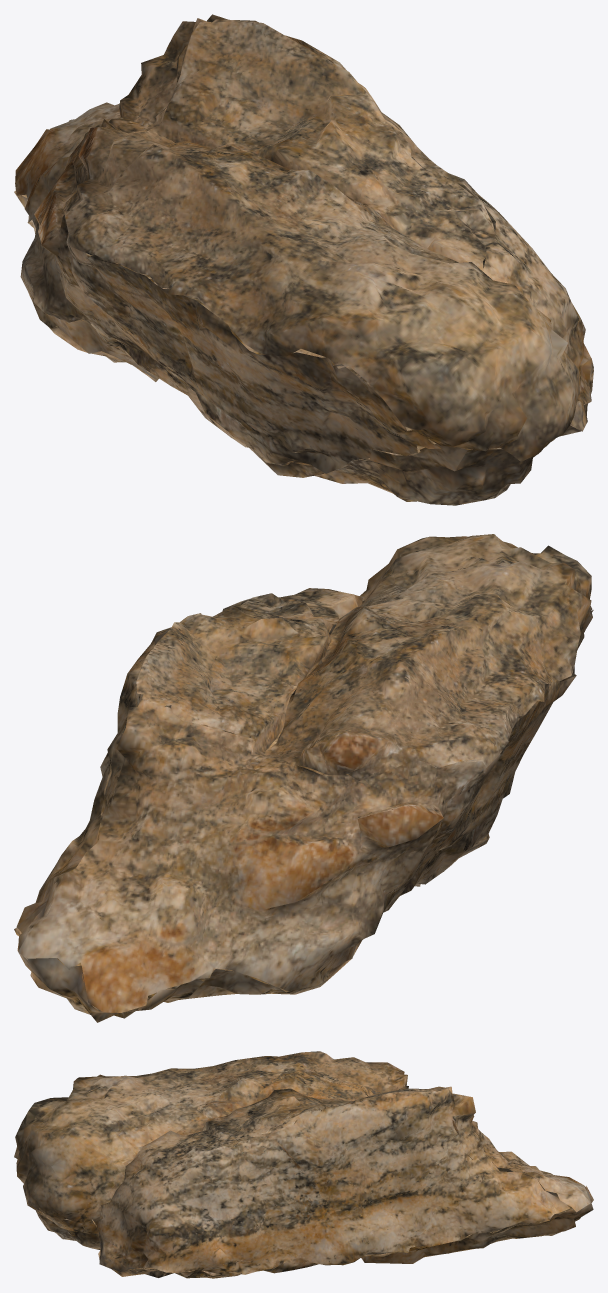
Rendered from SM_CinderScenery_Rock_D.fbx.
The picture shows the model from 3 angles, top to bottom: view 1: azimuth 30°, elevation 25°; view 2: azimuth 150°, elevation 25°; view 3: azimuth 270°, elevation 25°; orthographic projection. The views are drawn at different scales.
Parts seen in each view (by area): view 1: SM_CinderScenery_Rock_D; view 2: SM_CinderScenery_Rock_D; view 3: SM_CinderScenery_Rock_D.
Part boxes in pixels (x1=…): SM_CinderScenery_Rock_D: x1=14, y1=14, x2=593, y2=505; SM_CinderScenery_Rock_D: x1=14, y1=534, x2=593, y2=1022; SM_CinderScenery_Rock_D: x1=14, y1=1051, x2=593, y2=1278.
Size of the model in its own units: 50.09 by 100 by 34.08.
